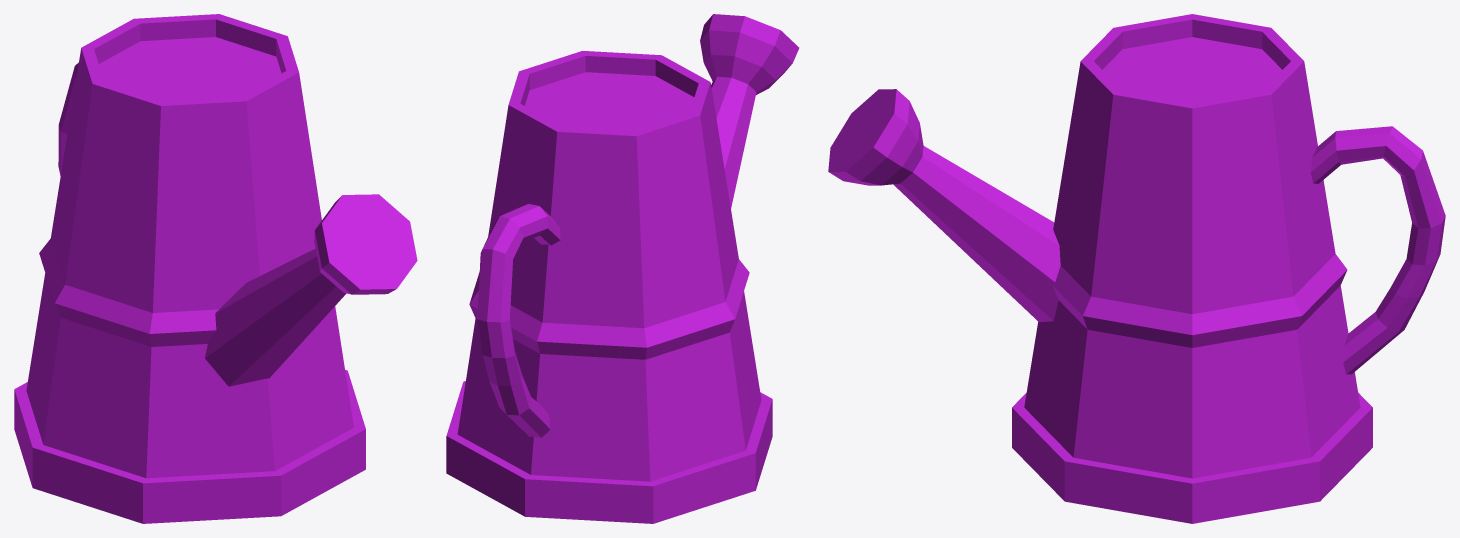
Rendered from Regadera.fbx.
3 renders of one model, left to right at view 1: azimuth 30°, elevation 25°; view 2: azimuth 150°, elevation 25°; view 3: azimuth 270°, elevation 25°, orthographic. The views are drawn at different scales.
Visible parts, largest first — view 1: Cylinder.002; view 2: Cylinder.002; view 3: Cylinder.002.
Boxes of the visible parts, x1,y1,x2,y2 form: Cylinder.002: [14, 14, 417, 523]; Cylinder.002: [446, 14, 799, 523]; Cylinder.002: [828, 14, 1445, 523].
Bounding box in the file's own units: 200 × 236 × 342.
